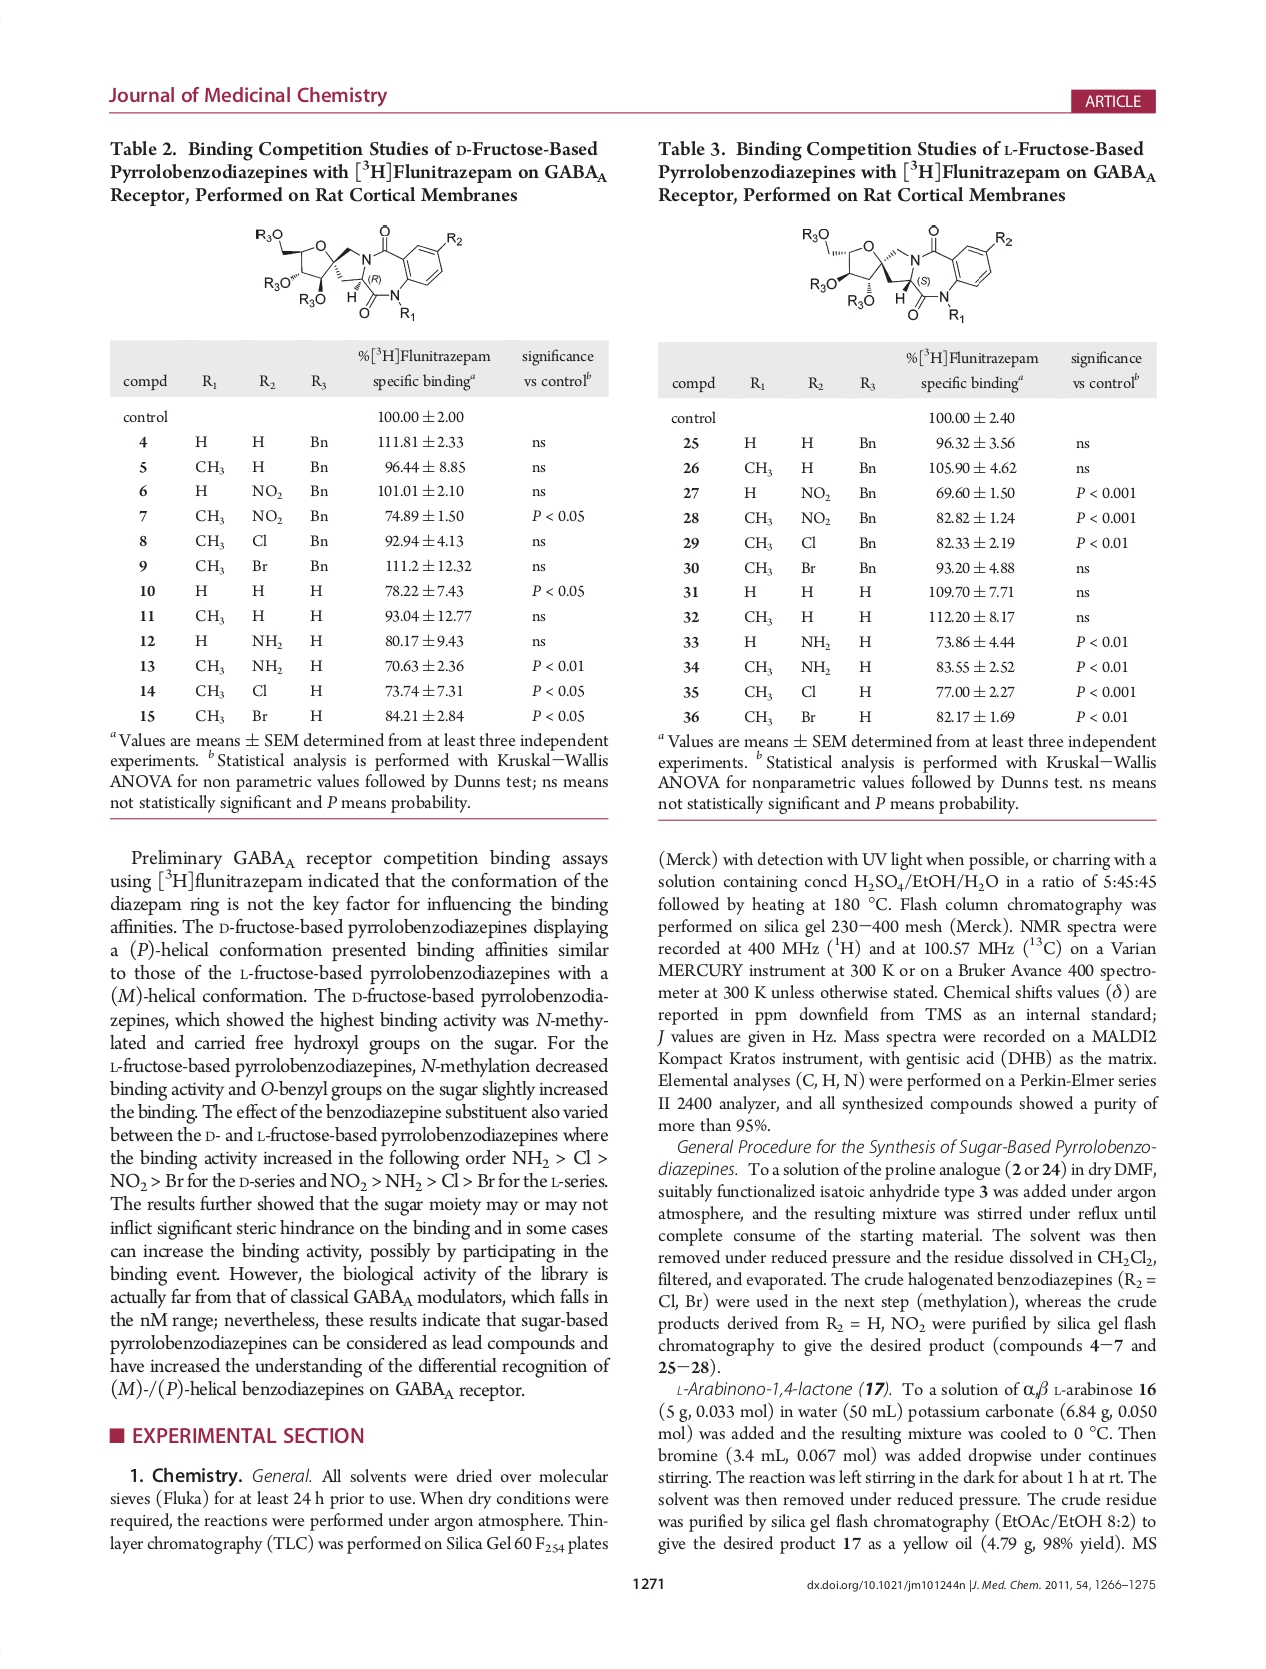exist_molecular: (798, 221, 1013, 323), (251, 223, 464, 323)
